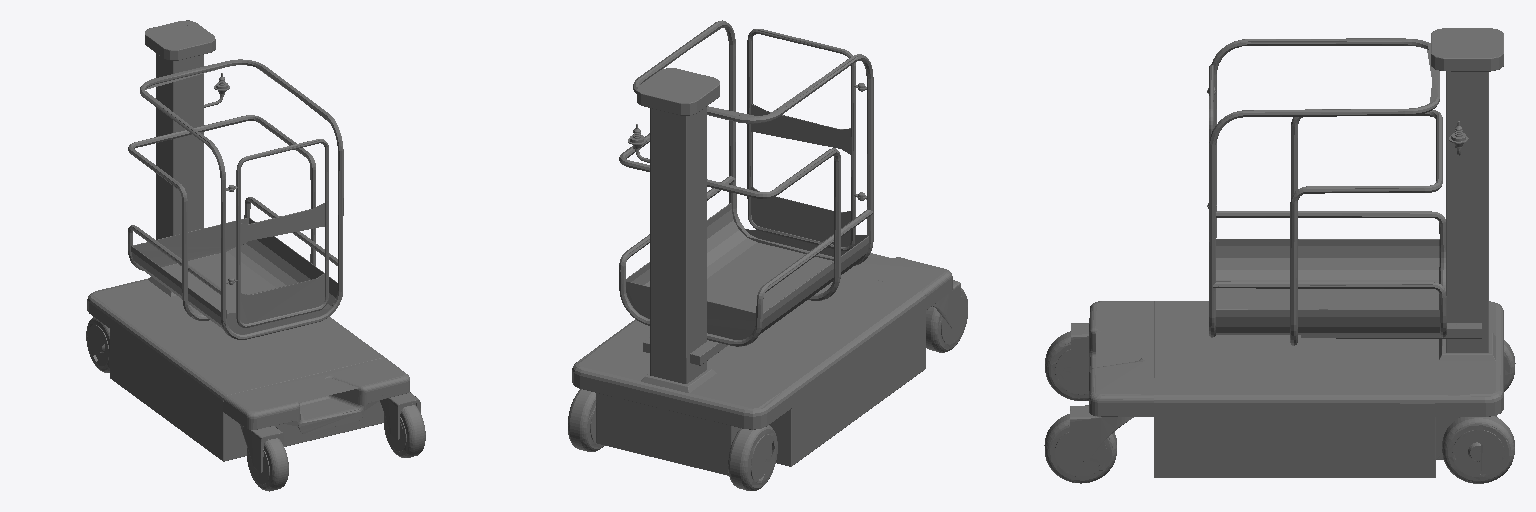
The robot description file, URDF, robot "forklift":
<?xml version="1.0" ?>
<robot name="forklift">
  <link name="world"/>
  <link name="empty_link_x"/>
  <link name="empty_link_y"/>

  <link name="chassi">
   <visual>
     <origin rpy="1.57 0 1.57" xyz="0 0 -0.09"/>
     <geometry>
        <mesh scale="0.5 0.5 0.5" filename="meshes/lifttruck.obj"/>
     </geometry>
      <material name="grey">
        <color rgba="0.5 0.5 0.5 0.5"/>
      </material>
   </visual>
   <collision>
     <origin rpy="1.57 0 1.57" xyz="0 0 -0.09"/>
     <geometry>
        <mesh scale="0.5 0.5 0.5" filename="meshes/lifttruck.obj"/>
     </geometry>
      <material name="grey">
        <color rgba="0.5 0.5 0.5 0.5"/>
      </material>
   </collision>
  </link>

  <joint name="joint_translation_x" type="prismatic">
    <origin xyz="-0.0 -0.0 0.0" rpy="0 0 3.14"/>
    <axis xyz="1 0 0"/>
    <parent link="world"/>
    <child link="empty_link_x"/>
    <limit effort="1" lower="-5.0" upper="5.0" velocity="1"/>
  </joint>
  <joint name="joint_translation_y" type="prismatic">
    <origin xyz="0 0 0" rpy="0 0 0"/>
    <axis xyz="0 1 0"/>
    <parent link="empty_link_x"/>
    <child link="empty_link_y"/>
    <limit effort="1" lower="-5.0" upper="5.0" velocity="1"/>
  </joint>
  <joint name="joint_rotation_yaw" type="continuous">
    <origin xyz="0 0 0.05" rpy="0 0 0"/>
    <axis xyz="0 0 1"/>
    <parent link="empty_link_y"/>
    <child link="chassi"/>
  </joint>

</robot>

--- What the picture shows (computed from the rendered views, not written in the file) ---
3 views of the same robot in one strip: view 1: azimuth 30°, elevation 25°; view 2: azimuth 150°, elevation 25°; view 3: azimuth 270°, elevation 25° (orthographic).
Robot: forklift — 4 links, 3 joints (1 continuous, 2 prismatic); root link world; default pose: every joint at zero.
Links seen in each view (by area): view 1: chassi; view 2: chassi; view 3: chassi.
Link boxes in pixels (box(x1,y1,x2,y2)): chassi: box(86, 20, 425, 491); chassi: box(568, 20, 967, 490); chassi: box(1044, 28, 1515, 483).
Bounding box of the posed robot: 0.4859 × 0.9752 × 0.9069 m (x, y, z).
1 mesh visuals loaded from 1 distinct referenced files (1 OBJ).
